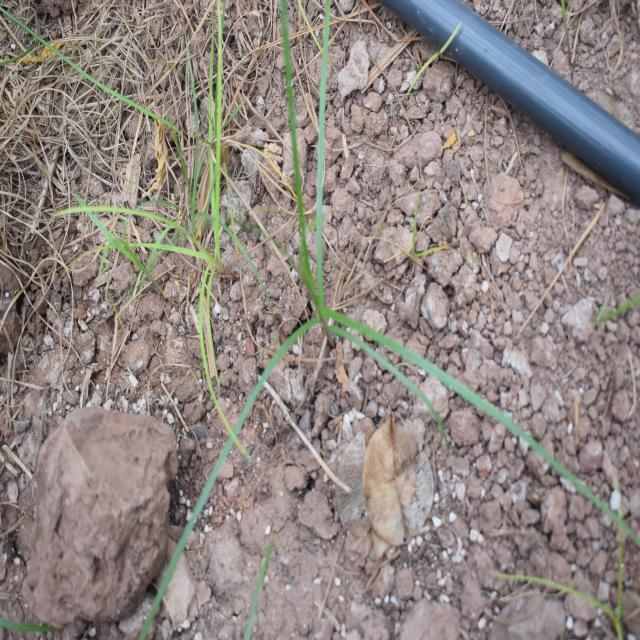sedge: (181, 42, 589, 567)
